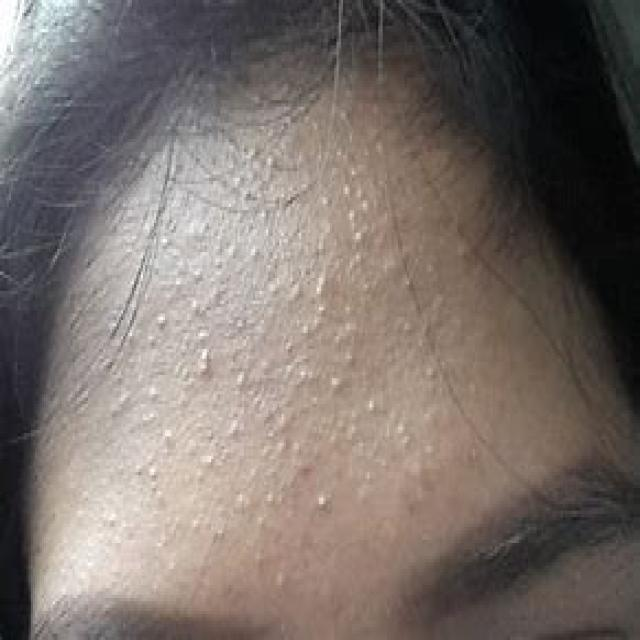fungal: (109, 127, 464, 574)
